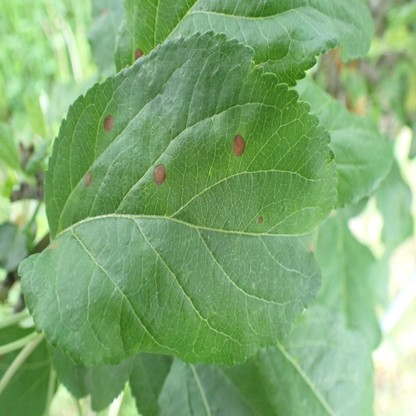frogeye_leaf_spot: (153, 163, 167, 186), (233, 134, 246, 157), (103, 114, 114, 133), (85, 169, 93, 187), (134, 48, 143, 60), (50, 239, 59, 251), (309, 241, 314, 254), (258, 215, 264, 225)
